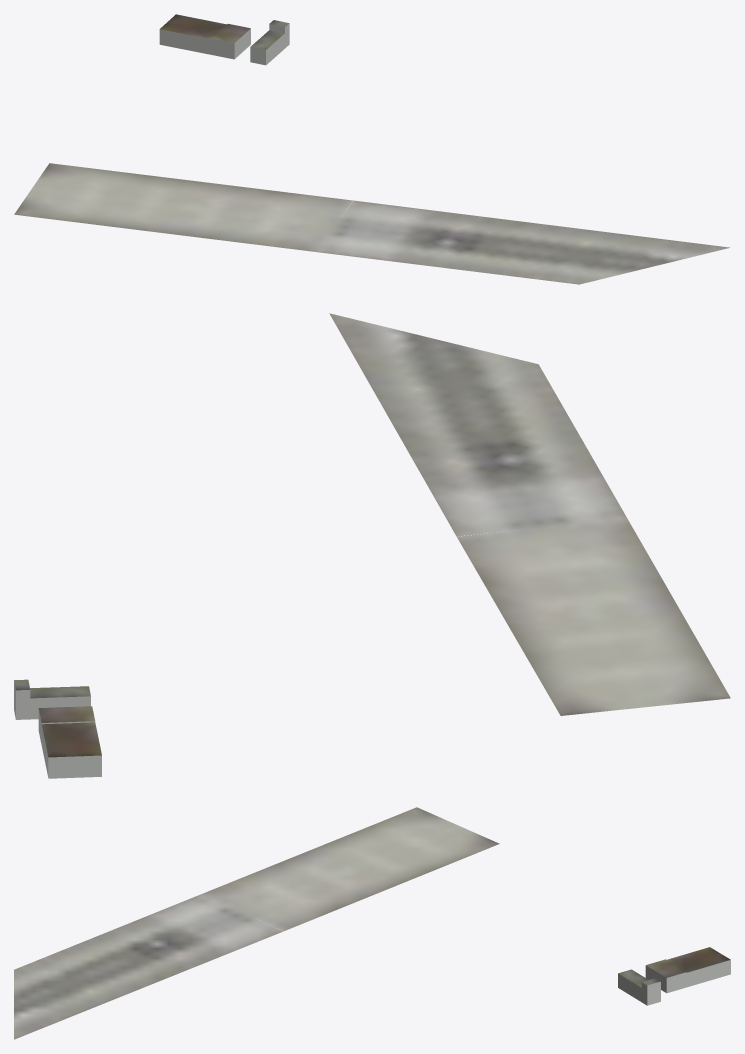
The model's file is LSZH_-2_5.glb.
3 renders of one model, top to bottom at view 1: azimuth 30°, elevation 25°; view 2: azimuth 150°, elevation 25°; view 3: azimuth 270°, elevation 25°, orthographic. The views are drawn at different scales.
Parts seen in each view (by area): view 1: pavement_LSZH_pavement_5365_2519, building_a8b8d9f512815af6, building_88a9b5899b0fe03b, building_7da81af0b4cbae7c; view 2: pavement_LSZH_pavement_5365_2519, building_88a9b5899b0fe03b, building_a8b8d9f512815af6, building_7da81af0b4cbae7c; view 3: pavement_LSZH_pavement_5365_2519, building_a8b8d9f512815af6, building_88a9b5899b0fe03b, building_7da81af0b4cbae7c.
Boxes of the visible parts, x1=… form: pavement_LSZH_pavement_5365_2519: x1=14, y1=163, x2=729, y2=284; building_a8b8d9f512815af6: x1=159, y1=23, x2=289, y2=59; building_88a9b5899b0fe03b: x1=160, y1=14, x2=289, y2=42; building_7da81af0b4cbae7c: x1=250, y1=31, x2=287, y2=65; pavement_LSZH_pavement_5365_2519: x1=329, y1=313, x2=730, y2=715; building_88a9b5899b0fe03b: x1=14, y1=679, x2=101, y2=757; building_a8b8d9f512815af6: x1=14, y1=681, x2=101, y2=778; building_7da81af0b4cbae7c: x1=22, y1=696, x2=90, y2=719; pavement_LSZH_pavement_5365_2519: x1=14, y1=807, x2=499, y2=1039; building_a8b8d9f512815af6: x1=641, y1=960, x2=730, y2=1005; building_88a9b5899b0fe03b: x1=642, y1=947, x2=730, y2=985; building_7da81af0b4cbae7c: x1=618, y1=973, x2=644, y2=1003.
Size of the model in its own units: 275 by 11.53 by 358.
Materials: 3 (2 with a texture image).
